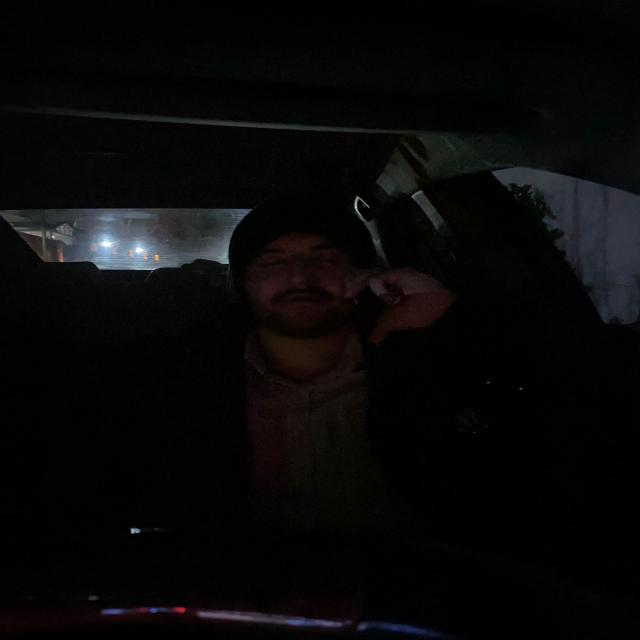mobile: (354, 258, 411, 333)
person: (227, 202, 372, 342)
